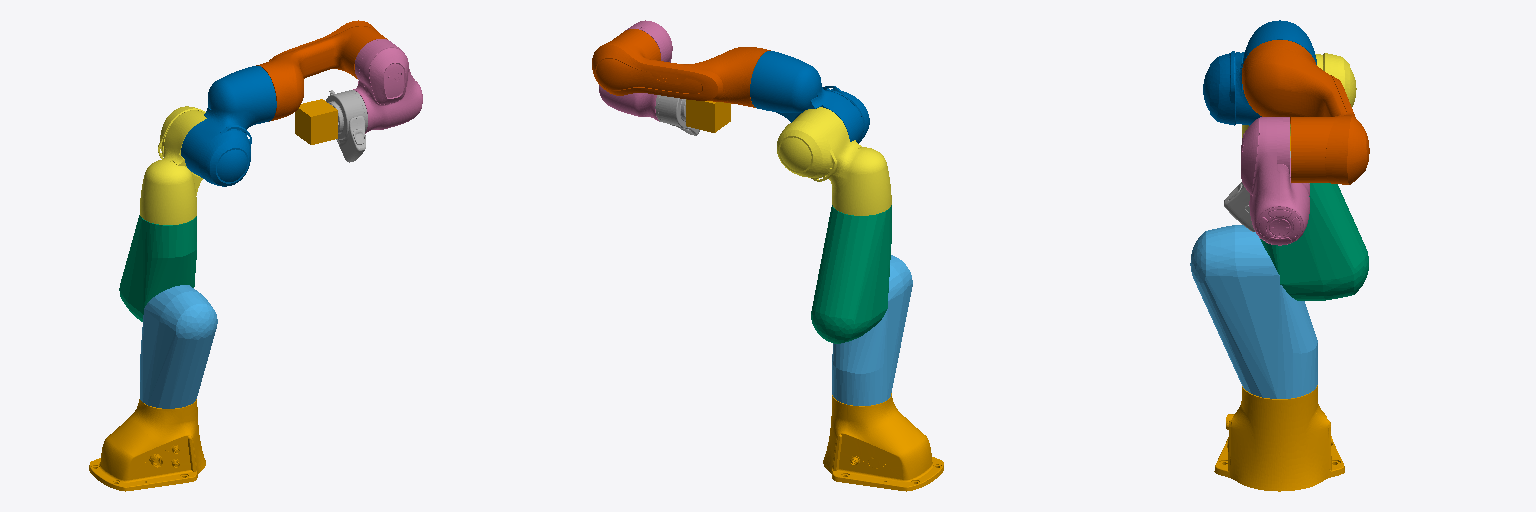
robot.urdf — panda:
<?xml version='1.0' encoding='utf-8'?>
<robot name="panda">

	<link name="link0">
		<inertial>
			<origin xyz="0 0 0.05" rpy="0 0 0" />
			<mass value="4" />
			<inertia ixx="0.4" iyy="0.4" izz="0.4" ixy="0" ixz="0" iyz="0" />
		</inertial>
		<visual>
			<geometry>
				<mesh filename="meshes/visual/link0.stl"/>
			</geometry>
		</visual>
		<!-- <collision>
			<geometry>
				<mesh filename="meshes/collision/link0.stl"/>
			</geometry>
		</collision> -->
	</link>
	<link name="link1">
		<inertial>
			<origin xyz="0 0 -0.07" rpy="0 -0 0" />
			<mass value="3" />
			<inertia ixx="0.3" iyy="0.3" izz="0.3" ixy="0" ixz="0" iyz="0" />
		</inertial>
		<visual>
			<geometry>
				<mesh filename="meshes/visual/link1.stl"/>
			</geometry>
		</visual>
		<!-- <collision>
			<geometry>
				<mesh filename="meshes/collision/link1.stl"/>
			</geometry>
		</collision> -->
	</link>
	<link name="link2">
		<inertial>
			<origin xyz="0 -0.1 0" rpy="0 -0 0" />
			<mass value="3" />
			<inertia ixx="0.3" iyy="0.3" izz="0.3" ixy="0" ixz="0" iyz="0" />
		</inertial>
		<visual>
			<geometry>
				<mesh filename="meshes/visual/link2.stl"/>
			</geometry>
		</visual>
		<!-- <collision>
			<geometry>
				<mesh filename="meshes/collision/link2.stl"/>
			</geometry>
		</collision> -->
	</link>
	<link name="link3">
		<inertial>
			<origin xyz="0.04 0 -0.05" rpy="0 -0 0" />
			<mass value="2" />
			<inertia ixx="0.2" iyy="0.2" izz="0.2" ixy="0" ixz="0" iyz="0" />
		</inertial>
		<visual>
			<geometry>
				<mesh filename="meshes/visual/link3.stl"/>
			</geometry>
		</visual>
		<!-- <collision>
			<geometry>
				<mesh filename="meshes/collision/link3.stl"/>
			</geometry>
		</collision> -->
	</link>
	<link name="link4">
		<inertial>
			<origin xyz="-0.04 0.05 0" rpy="0 -0 0" />
			<mass value="2" />
			<inertia ixx="0.2" iyy="0.2" izz="0.2" ixy="0" ixz="0" iyz="0" />
		</inertial>
		<visual>
			<geometry>
				<mesh filename="meshes/visual/link4.stl"/>
			</geometry>
		</visual>
		<!-- <collision>
			<geometry>
				<mesh filename="meshes/collision/link4.stl"/>
			</geometry>
		</collision> -->
	</link>
	<link name="link5">
		<inertial>
			<origin xyz="0 0 -0.15" rpy="0 -0 0" />
			<mass value="2" />
			<inertia ixx="0.2" iyy="0.2" izz="0.2" ixy="0" ixz="0" iyz="0" />
		</inertial>
		<visual>
			<geometry>
				<mesh filename="meshes/visual/link5.stl"/>
			</geometry>
		</visual>
		<!-- <collision>
			<geometry>
				<mesh filename="meshes/collision/link5.stl"/>
			</geometry>
		</collision> -->
	</link>
	<link name="link6">
		<inertial>
			<origin xyz="0.06 0 0" rpy="0 -0 0" />
			<mass value="1.5" />
			<inertia ixx="0.1" iyy="0.1" izz="0.1" ixy="0" ixz="0" iyz="0" />
		</inertial>
		<visual>
			<geometry>
				<mesh filename="meshes/visual/link6.stl"/>
			</geometry>
		</visual>
		<!-- <collision>
			<geometry>
				<mesh filename="meshes/collision/link6.stl"/>
			</geometry>
		</collision> -->
	</link>
	<link name="link7">
		<inertial>
			<origin xyz="0 0 0.17" rpy="0 -0 0" />
			<mass value="1.8" />
			<inertia ixx="0.09" iyy="0.05" izz="0.07" ixy="0" ixz="0" iyz="0" />
		</inertial>
		<visual>
			<geometry>
				<mesh filename="meshes/visual/link7.stl"/>
			</geometry>
		</visual>
		<!-- <collision>
			<geometry>
				<mesh filename="meshes/collision/link7.stl"/>
			</geometry>
		</collision> -->
	</link>
	<link name="end-effector">
		<inertial>
			<origin xyz="0 0 0" rpy="0 -0 0" />
			<mass value="0.2" />
			<inertia ixx="0.01" iyy="0.01" izz="0.01" ixy="0" ixz="0" iyz="0" />
		</inertial>
		<visual>
			<geometry>
				<box size="0.06 0.06 0.06" />
			</geometry>
		</visual>
		<collision>
			<geometry>
				<box size="0.06 0.06 0.06" />
			</geometry>
		</collision>
	</link>

	<joint name="joint1" type="revolute">
		<safety_controller k_position="100.0" k_velocity="40.0" soft_lower_limit="-2.8973" soft_upper_limit="2.8973"/>
		<origin rpy="0 0 0" xyz="0 0 0.333"/>
		<!-- <origin rpy="1.57079632679 0 1.57079632679" xyz="0.333 0 0.8"/> -->
		<parent link="link0"/>
		<child link="link1"/>
		<axis xyz="0 0 1"/>
		<calibration falling="0.0" />
		<limit effort="87" lower="-2.8973" upper="2.8973" velocity="2.1750"/>
	</joint>
	<joint name="joint2" type="revolute">
		<safety_controller k_position="100.0" k_velocity="40.0" soft_lower_limit="-1.7628" soft_upper_limit="1.7628"/>
		<origin rpy="-1.57079632679 0 0" xyz="0 0 0"/>
		<parent link="link1"/>
		<child link="link2"/>
		<axis xyz="0 0 1"/>
		<calibration falling="-25.0" />
		<limit effort="87" lower="-1.7628" upper="1.7628" velocity="2.1750"/>
	</joint>
	<joint name="joint3" type="revolute">
		<safety_controller k_position="100.0" k_velocity="40.0" soft_lower_limit="-2.8973" soft_upper_limit="2.8973"/>
		<origin rpy="1.57079632679 0 0" xyz="0 -0.316 0"/>
		<parent link="link2"/>
		<child link="link3"/>
		<axis xyz="0 0 1"/>
		<limit effort="87" lower="-2.8973" upper="2.8973" velocity="2.1750"/>
	</joint>
	<joint name="joint4" type="revolute">
		<safety_controller k_position="100.0" k_velocity="40.0" soft_lower_limit="-3.0718" soft_upper_limit="-0.0698"/>
		<origin rpy="1.57079632679 0 0" xyz="0.0825 0 0"/>
		<parent link="link3"/>
		<child link="link4"/>
		<axis xyz="0 0 1"/>
		<calibration falling="-135.0" />
		<limit effort="87" lower="-3.0718" upper="-0.0698" velocity="2.1750"/>
	</joint>
	<joint name="joint5" type="revolute">
		<safety_controller k_position="100.0" k_velocity="40.0" soft_lower_limit="-2.8973" soft_upper_limit="2.8973"/>
		<origin rpy="-1.57079632679 0 0" xyz="-0.0825 0.384 0"/>
		<parent link="link4"/>
		<child link="link5"/>
		<axis xyz="0 0 1"/>
		<calibration falling="0.0" />
		<limit effort="12" lower="-2.8973" upper="2.8973" velocity="2.6100"/>
	</joint>
	<joint name="joint6" type="revolute">
		<safety_controller k_position="100.0" k_velocity="40.0" soft_lower_limit="-0.0175" soft_upper_limit="3.7525"/>
		<origin rpy="1.57079632679 0 0" xyz="0 0 0"/>
		<parent link="link5"/>
		<child link="link6"/>
		<axis xyz="0 0 1"/>
		<calibration falling="105.0" />
		<limit effort="12" lower="-0.0175" upper="3.7525" velocity="2.6100"/>
	</joint>
	<joint name="joint7" type="revolute">
		<safety_controller k_position="100.0" k_velocity="40.0" soft_lower_limit="-2.8973" soft_upper_limit="2.8973"/>
		<origin rpy="1.57079632679 0 0" xyz="0.088 0 0"/>
		<parent link="link6"/>
		<child link="link7"/>
		<axis xyz="0 0 1"/>
		<limit effort="12" lower="-2.8973" upper="2.8973" velocity="2.6100"/>
	</joint>
	<joint name="joint_ee" type="fixed">
		<origin rpy="0 0 0" xyz="0 0 0.14"/>
		<parent link="link7"/>
		<child link="end-effector"/>
	</joint>
</robot>

--- Render facts (derived) ---
The picture shows the robot from 3 angles, left to right: view 1: azimuth 30°, elevation 25°; view 2: azimuth 150°, elevation 25°; view 3: azimuth 270°, elevation 25°; orthographic projection.
Robot: panda — 9 links, 8 joints (7 revolute, 1 fixed); root link link0; default pose: joints at zero except 1 at the middle of their limits (joint4 = -1.57).
Links seen in each view (by area): view 1: link1, link0, link4, link2, link3, link5, link6, link7, end-effector; view 2: link2, link0, link5, link3, link1, link4, link6, end-effector, link7; view 3: link1, link5, link0, link2, link6, link4, link3, link7.
Boxes of the visible links, <box> form: link1: <box>140,285,217,408</box>; link0: <box>89,399,205,491</box>; link4: <box>181,66,276,186</box>; link2: <box>119,215,196,321</box>; link3: <box>140,106,206,224</box>; link5: <box>256,20,387,121</box>; link6: <box>353,39,422,133</box>; link7: <box>326,90,367,162</box>; end-effector: <box>295,99,337,144</box>; link2: <box>811,205,891,343</box>; link0: <box>823,393,943,491</box>; link5: <box>592,29,770,107</box>; link3: <box>777,107,891,215</box>; link1: <box>832,255,912,405</box>; link4: <box>750,51,869,143</box>; link6: <box>599,20,672,121</box>; end-effector: <box>686,99,730,132</box>; link7: <box>655,95,699,135</box>; link1: <box>1190,225,1317,398</box>; link5: <box>1242,40,1369,184</box>; link0: <box>1214,385,1344,491</box>; link2: <box>1260,183,1368,300</box>; link6: <box>1241,117,1309,245</box>; link4: <box>1203,20,1316,125</box>; link3: <box>1242,53,1356,137</box>; link7: <box>1224,151,1309,231</box>.
Bounding box of the posed robot: 0.7022 × 0.2593 × 0.7865 m (x, y, z).
Meshes: 8 distinct files referenced, 8 mesh visuals loaded (8 binary STL).
